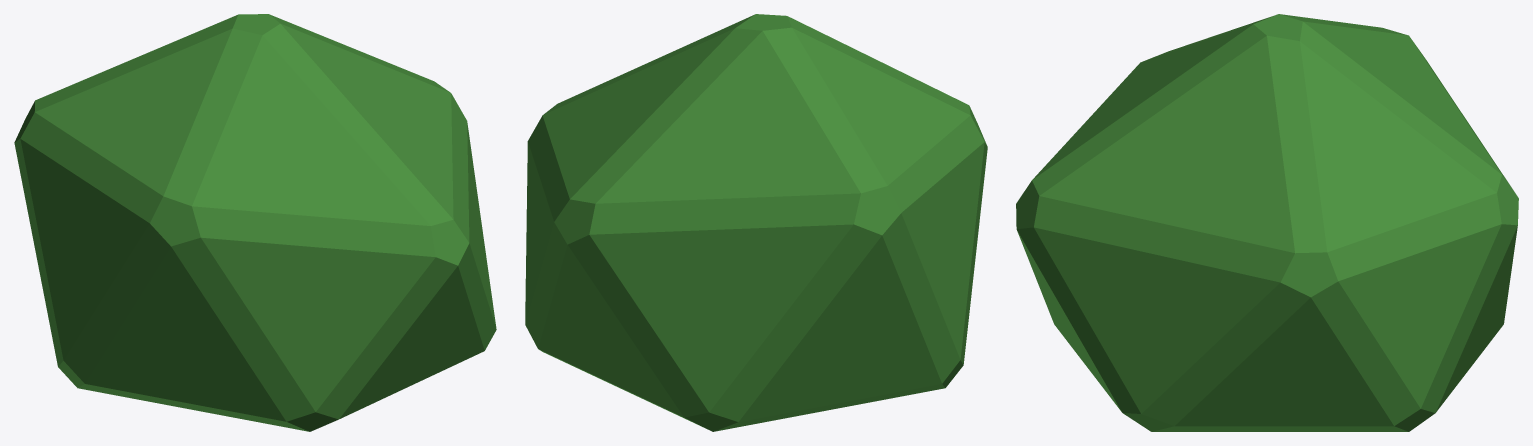
File: bush.fbx
The picture shows the model from 3 angles, left to right: view 1: azimuth 30°, elevation 25°; view 2: azimuth 150°, elevation 25°; view 3: azimuth 270°, elevation 25°; orthographic projection.
Visible parts, largest first — view 1: Icosphere; view 2: Icosphere; view 3: Icosphere.
Part boxes in pixels (<box>): Icosphere: <box>14,14,496,431</box>; Icosphere: <box>525,14,987,431</box>; Icosphere: <box>1016,14,1518,431</box>.
Size of the model in its own units: 89.35 by 67.3 by 93.56.
